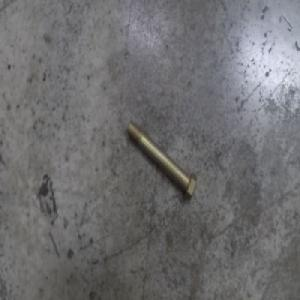Bolt: (127, 116, 198, 201)
